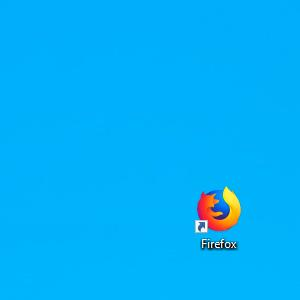firefox: (195, 185, 241, 233)
